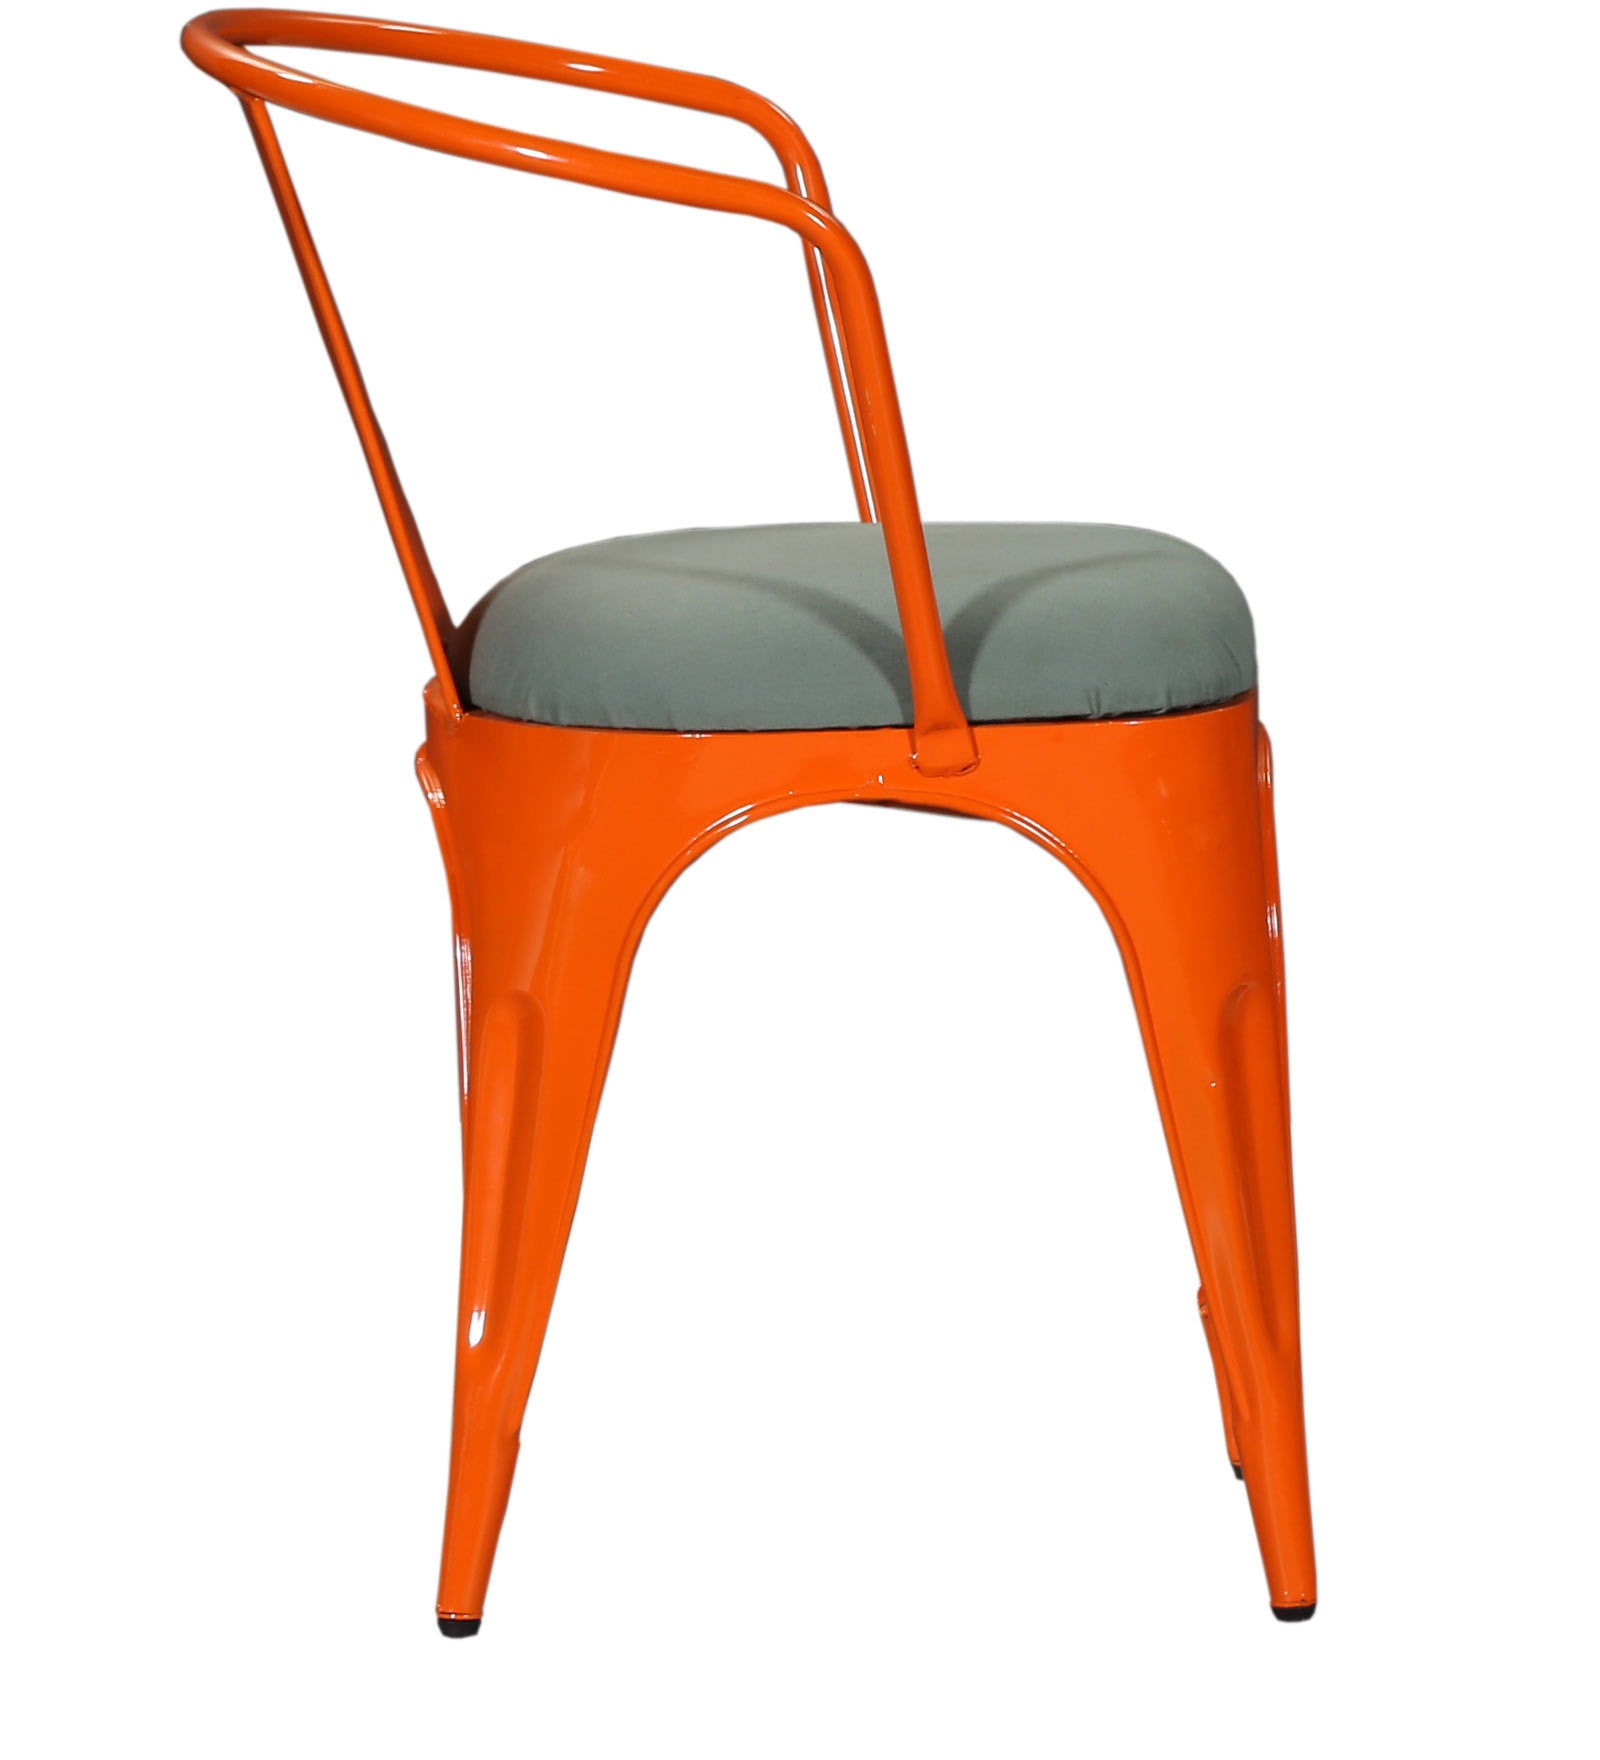Danlou Metal Chair with Cushion In Orange Colour by Bohemiana: (153, 28, 1362, 1666)
